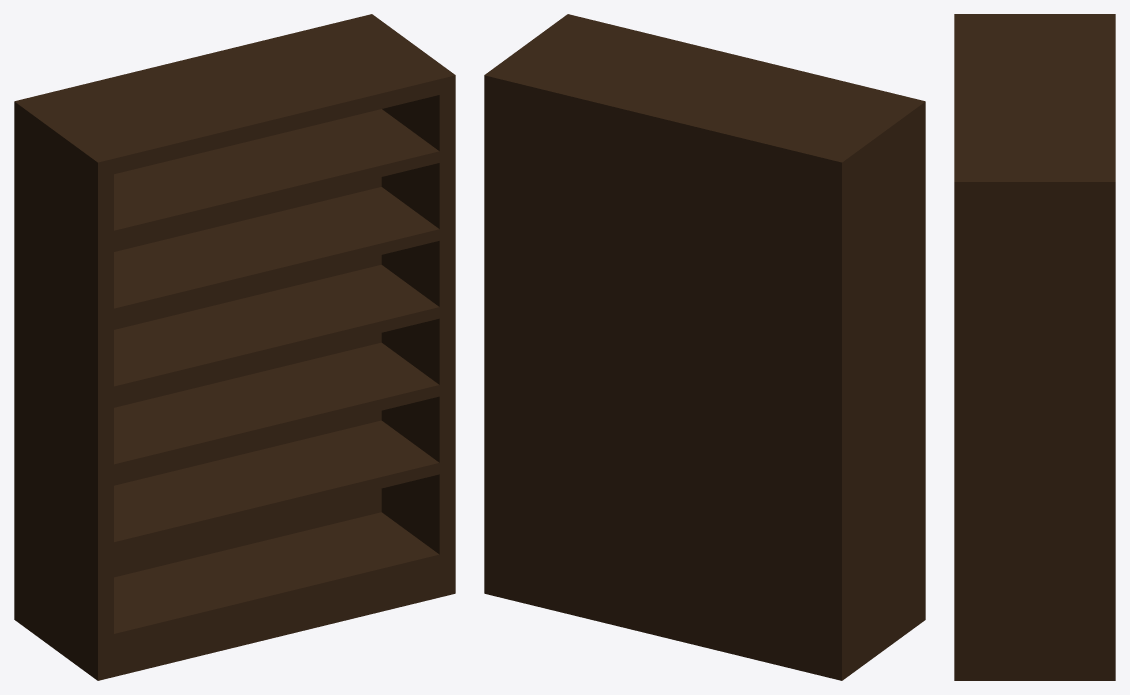
The model's file is boookshelf 1.fbx.
3 views of the same model, side by side, from view 1: azimuth 30°, elevation 25°; view 2: azimuth 150°, elevation 25°; view 3: azimuth 270°, elevation 25° (orthographic). The views are drawn at different scales.
Parts seen in each view (by area): view 1: Standart Bookshelf; view 2: Standart Bookshelf; view 3: Standart Bookshelf.
Boxes of the visible parts, <box> form: Standart Bookshelf: <box>14,14,455,680</box>; Standart Bookshelf: <box>484,14,925,680</box>; Standart Bookshelf: <box>954,14,1115,680</box>.
Size of the model in its own units: 190 by 263 by 77.01.
